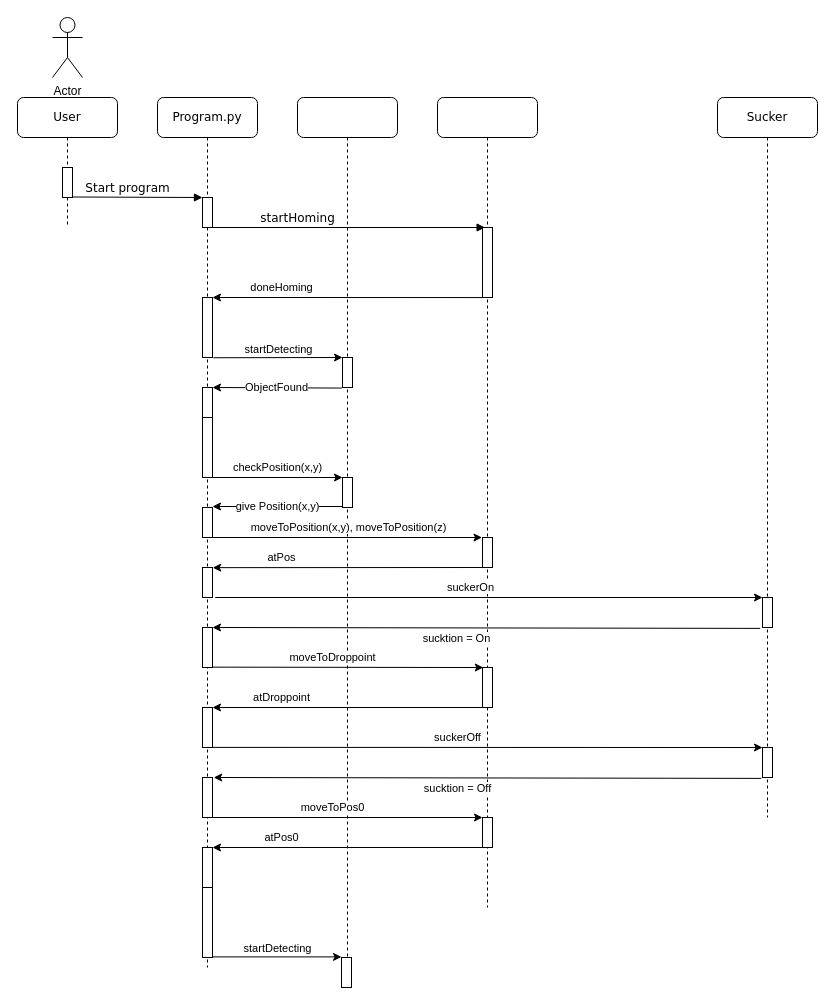
This 835x1005 diagram has some shape labels left out. Here are the shapes that lost their labels. From the top down, the box of each, then its label:
(436, 96, 538, 908): DoBot
(296, 96, 398, 958): Camera
